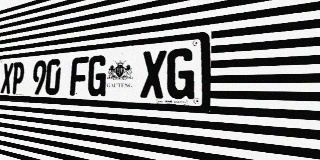0: (44, 59, 61, 95)
9: (31, 60, 47, 95)
F: (69, 56, 89, 96)
G: (166, 47, 195, 100), (87, 55, 108, 97)
P: (11, 62, 25, 94)
X: (140, 50, 167, 99), (0, 63, 14, 94)
